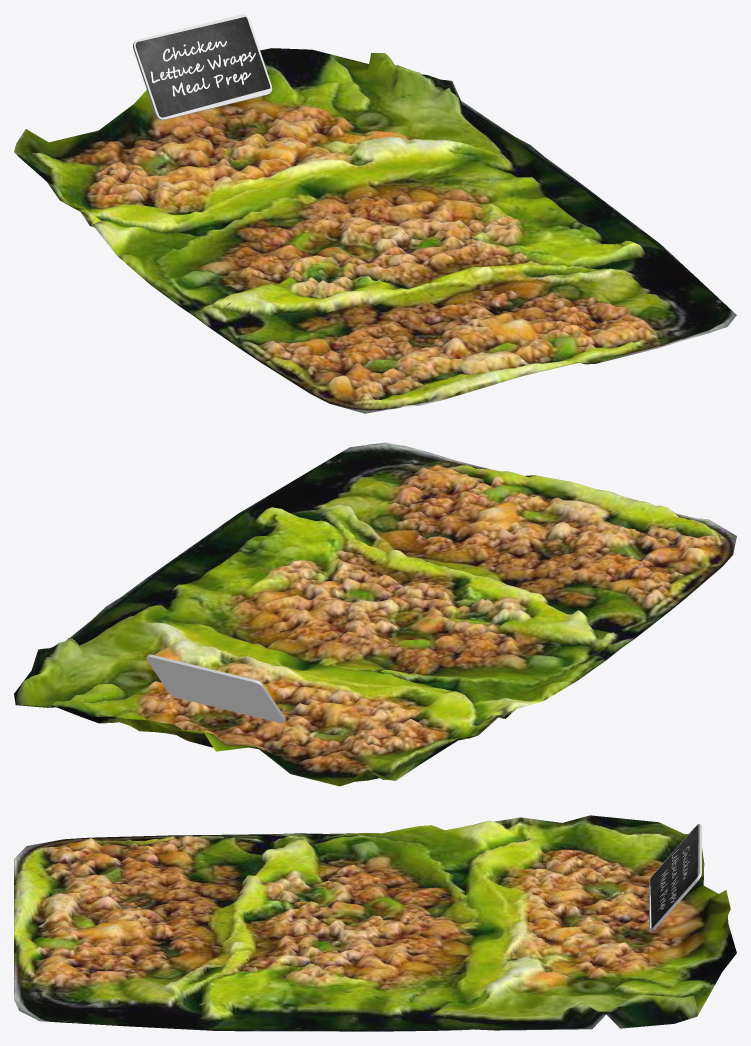
The model's file is food_tray_1.glb.
3 views of the same model, one above another, from view 1: azimuth 30°, elevation 25°; view 2: azimuth 150°, elevation 25°; view 3: azimuth 270°, elevation 25° (orthographic). The views are drawn at different scales.
Visible parts, largest first — view 1: Material2.013, Material2.011, Material2.012; view 2: Material2.013, Material2.012; view 3: Material2.013, Material2.011, Material2.012.
Boxes of the visible parts, left/top/right/bottom form: Material2.013: left=14, top=48, right=736, bottom=413; Material2.011: left=135, top=17, right=270, bottom=117; Material2.012: left=133, top=14, right=272, bottom=120; Material2.013: left=14, top=442, right=736, bottom=786; Material2.012: left=146, top=654, right=285, bottom=723; Material2.013: left=14, top=815, right=736, bottom=1031; Material2.011: left=650, top=825, right=698, bottom=927; Material2.012: left=649, top=824, right=701, bottom=932.
Size of the model in its own units: 6.81 by 1.31 by 10.49.
3 materials, 2 textured.
